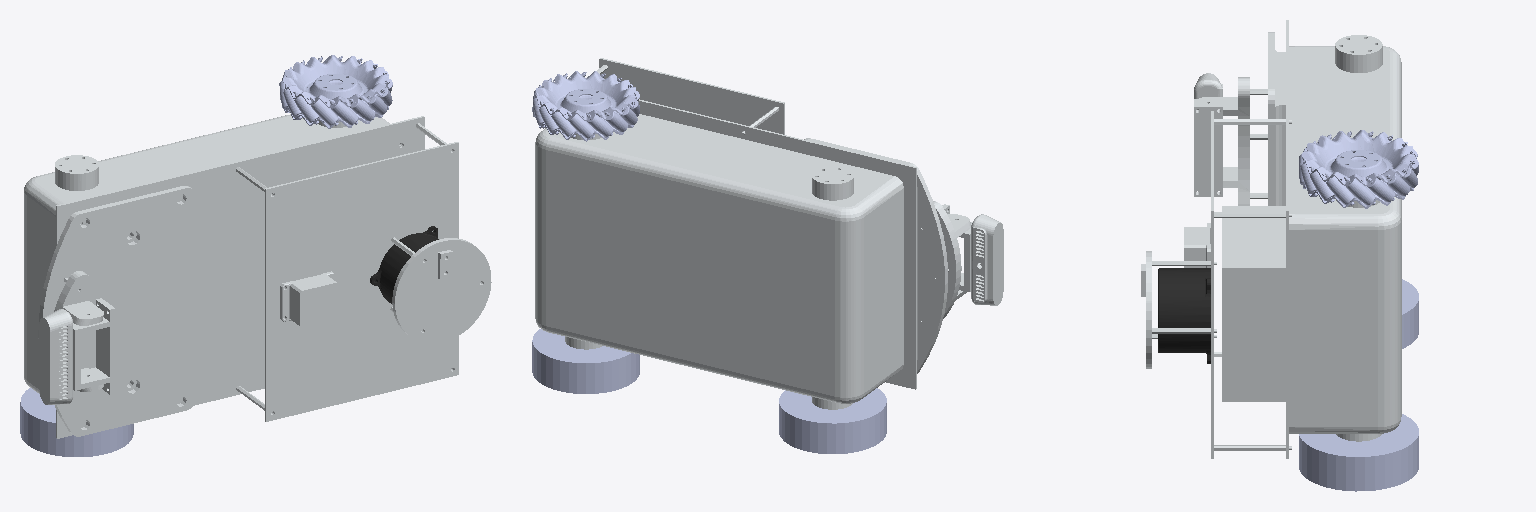
The robot description file, URDF, robot "agvcar":
<?xml version="1.0" encoding="utf-8"?>
<!-- This URDF was automatically created by SolidWorks to URDF Exporter! Originally created by [author] ([email redacted]) 
     Commit Version: 1.6.0-4-g7f85cfe  Build Version: 1.6.7995.38578
     For more information, please see http://wiki.ros.org/sw_urdf_exporter -->
<robot
  name="agvcar">
  <link
    name="base_link">
    <inertial>
      <origin
        xyz="0 0 0"
        rpy="0 0 0" />
      <mass
        value="13.095" />
      <inertia
        ixx="0.048597"
        ixy="1.1568E-09"
        ixz="1.5512E-06"
        iyy="0.097167"
        iyz="-1.5235E-11"
        izz="0.13211" />
    </inertial>
    <visual>
      <origin
        xyz="0 0 0"
        rpy="0 0 0" />
      <geometry>
        <mesh
          filename="package://agvcar/meshes2/base_link.STL" />
      </geometry>
      <material
        name="">
        <color
          rgba="0.89804 0.91765 0.92941 1" />
      </material>
    </visual>
    <collision>
      <origin
        xyz="0 0 0"
        rpy="0 0 0" />
      <geometry>
        <mesh
          filename="package://agvcar/meshes2/base_link.STL" />
      </geometry>
    </collision>
  </link>
  <link
    name="zql">
    <inertial>
      <origin
        xyz="-1.4012E-05 0.0093941 -3.3635E-05"
        rpy="0 0 0" />
      <mass
        value="0.065021" />
      <inertia
        ixx="1.3726E-05"
        ixy="-1.2301E-09"
        ixz="2.7342E-08"
        iyy="2.4442E-05"
        iyz="5.1251E-10"
        izz="1.378E-05" />
    </inertial>
    <visual>
      <origin
        xyz="0 0 0"
        rpy="0 0 0" />
      <geometry>
        <mesh
          filename="package://agvcar/meshes2/zql.STL" />
      </geometry>
      <material
        name="">
        <color
          rgba="0.79216 0.81961 0.93333 1" />
      </material>
    </visual>
    <collision>
      <origin
        xyz="0 0 0"
        rpy="0 0 0" />
      <geometry>
        <mesh
          filename="package://agvcar/meshes2/zql.STL" />
      </geometry>
    </collision>
  </link>
  <joint
    name="zq"
    type="continuous">
    <origin
      xyz="-0.023 -0.0358 -0.13754"
      rpy="1.5708 0 0" />
    <parent
      link="base_link" />
    <child
      link="zql" />
    <axis
      xyz="0 -1 0" />
  </joint>
  <link
    name="yql">
    <inertial>
      <origin
        xyz="2.3334E-06 -0.009395 -2.5007E-06"
        rpy="0 0 0" />
      <mass
        value="0.51783" />
      <inertia
        ixx="0.00010923"
        ixy="7.9114E-08"
        ixz="2.9698E-07"
        iyy="0.00019407"
        iyz="7.3815E-08"
        izz="0.00010918" />
    </inertial>
    <visual>
      <origin
        xyz="0 0 0"
        rpy="0 0 0" />
      <geometry>
        <mesh
          filename="package://agvcar/meshes2/yql.STL" />
      </geometry>
      <material
        name="">
        <color
          rgba="0.79216 0.81961 0.93333 1" />
      </material>
    </visual>
    <collision>
      <origin
        xyz="0 0 0"
        rpy="0 0 0" />
      <geometry>
        <mesh
          filename="package://agvcar/meshes2/yql.STL" />
      </geometry>
    </collision>
  </link>
  <joint
    name="yq"
    type="continuous">
    <origin
      xyz="-0.023 -0.0358 0.13751"
      rpy="1.5708 0 0" />
    <parent
      link="base_link" />
    <child
      link="yql" />
    <axis
      xyz="0 1 0" />
  </joint>
  <link
    name="zhl">
    <inertial>
      <origin
        xyz="0.26799 0.0093655 -3.3635E-05"
        rpy="0 0 0" />
      <mass
        value="0.065021" />
      <inertia
        ixx="1.3726E-05"
        ixy="-1.2301E-09"
        ixz="2.7342E-08"
        iyy="2.4442E-05"
        iyz="5.1251E-10"
        izz="1.378E-05" />
    </inertial>
    <visual>
      <origin
        xyz="0 0 0"
        rpy="0 0 0" />
      <geometry>
        <mesh
          filename="package://agvcar/meshes2/zhl.STL" />
      </geometry>
      <material
        name="">
        <color
          rgba="0.79216 0.81961 0.93333 1" />
      </material>
    </visual>
    <collision>
      <origin
        xyz="0 0 0"
        rpy="0 0 0" />
      <geometry>
        <mesh
          filename="package://agvcar/meshes2/zhl.STL" />
      </geometry>
    </collision>
  </link>
  <joint
    name="zh"
    type="continuous">
    <origin
      xyz="-0.291 -0.0358 -0.13751"
      rpy="1.5708 0 0" />
    <parent
      link="base_link" />
    <child
      link="zhl" />
    <axis
      xyz="0 -1 0" />
  </joint>
  <link
    name="yhl">
    <inertial>
      <origin
        xyz="0.268 -0.0094236 -2.5007E-06"
        rpy="0 0 0" />
      <mass
        value="0.51783" />
      <inertia
        ixx="0.00010923"
        ixy="7.9114E-08"
        ixz="2.9698E-07"
        iyy="0.00019407"
        iyz="7.3815E-08"
        izz="0.00010918" />
    </inertial>
    <visual>
      <origin
        xyz="0 0 0"
        rpy="0 0 0" />
      <geometry>
        <mesh
          filename="package://agvcar/meshes2/yhl.STL" />
      </geometry>
      <material
        name="">
        <color
          rgba="0.79216 0.81961 0.93333 1" />
      </material>
    </visual>
    <collision>
      <origin
        xyz="0 0 0"
        rpy="0 0 0" />
      <geometry>
        <mesh
          filename="package://agvcar/meshes2/yhl.STL" />
      </geometry>
    </collision>
  </link>
  <joint
    name="yh"
    type="continuous">
    <origin
      xyz="-0.291 -0.0358 0.13754"
      rpy="1.5708 0 0" />
    <parent
      link="base_link" />
    <child
      link="yhl" />
    <axis
      xyz="0 1 0" />
  </joint>
  <link
    name="ladar">
    <inertial>
      <origin
        xyz="1.0044E-11 -5.0942E-12 -0.0002267"
        rpy="0 0 0" />
      <mass
        value="0.1808" />
      <inertia
        ixx="8.8611E-05"
        ixy="1.499E-14"
        ixz="3.755E-14"
        iyy="8.8611E-05"
        iyz="-1.3526E-14"
        izz="0.00011661" />
    </inertial>
    <visual>
      <origin
        xyz="0 0 0"
        rpy="0 0 0" />
      <geometry>
        <mesh
          filename="package://agvcar/meshes2/ladar.STL" />
      </geometry>
      <material
        name="">
        <color
          rgba="0.22353 0.22353 0.22353 1" />
      </material>
    </visual>
    <collision>
      <origin
        xyz="0 0 0"
        rpy="0 0 0" />
      <geometry>
        <mesh
          filename="package://agvcar/meshes2/ladar.STL" />
      </geometry>
    </collision>
  </link>
  <joint
    name="ladar"
    type="fixed">
    <origin
      xyz="-0.01553 -0.18247 0"
      rpy="1.5708 0 0" />
    <parent
      link="base_link" />
    <child
      link="ladar" />
    <axis
      xyz="0 0 0" />
  </joint>
  <link
    name="camera">
    <inertial>
      <origin
        xyz="0.011444 0.001705 -0.00013611"
        rpy="0 0 0" />
      <mass
        value="0.10791" />
      <inertia
        ixx="7.1255E-05"
        ixy="-1.7848E-08"
        ixz="-4.9298E-08"
        iyy="7.71E-06"
        iyz="-2.4846E-10"
        izz="7.0257E-05" />
    </inertial>
    <visual>
      <origin
        xyz="0 0 0"
        rpy="0 0 0" />
      <geometry>
        <mesh
          filename="package://agvcar/meshes2/camera.STL" />
      </geometry>
      <material
        name="">
        <color
          rgba="0.89804 0.91765 0.92941 1" />
      </material>
    </visual>
    <collision>
      <origin
        xyz="0 0 0"
        rpy="0 0 0" />
      <geometry>
        <mesh
          filename="package://agvcar/meshes2/camera.STL" />
      </geometry>
    </collision>
  </link>
  <joint
    name="cameraa"
    type="fixed">
    <origin
      xyz="-0.39662 -0.1625 -0.0017162"
      rpy="1.5708 0 0" />
    <parent
      link="base_link" />
    <child
      link="camera" />
    <axis
      xyz="0 0 0" />
  </joint>
</robot>

--- What the picture shows (computed from the rendered views, not written in the file) ---
3 views of the same robot in one strip: view 1: azimuth 30°, elevation 25°; view 2: azimuth 150°, elevation 25°; view 3: azimuth 270°, elevation 25° (orthographic).
Robot: agvcar — 7 links, 6 joints (4 continuous, 2 fixed); root link base_link; default pose: all joints at 0.
Visible links, largest first — view 1: base_link, yhl, zhl, camera, ladar, yql; view 2: base_link, zhl, yhl, zql, camera, yql; view 3: base_link, zql, yhl, ladar, yql, zhl, camera.
Link boxes in pixels (left/top/right/bottom): base_link: left=24, top=114, right=491, bottom=438; yhl: left=279, top=55, right=392, bottom=128; zhl: left=20, top=388, right=133, bottom=456; camera: left=39, top=309, right=72, bottom=404; ladar: left=370, top=226, right=438, bottom=303; yql: left=280, top=58, right=392, bottom=128; base_link: left=535, top=58, right=972, bottom=409; zhl: left=779, top=388, right=886, bottom=453; yhl: left=532, top=71, right=639, bottom=140; zql: left=532, top=329, right=639, bottom=393; camera: left=971, top=214, right=1003, bottom=305; yql: left=532, top=74, right=639, bottom=141; base_link: left=1141, top=20, right=1401, bottom=458; zql: left=1299, top=414, right=1418, bottom=491; yhl: left=1299, top=130, right=1418, bottom=208; ladar: left=1158, top=268, right=1210, bottom=363; yql: left=1300, top=133, right=1418, bottom=208; zhl: left=1402, top=279, right=1418, bottom=348; camera: left=1194, top=73, right=1222, bottom=98.
Size in the robot's own frame: 0.432 by 0.2345 by 0.2907 metres.
Meshes: 7 distinct files referenced, 7 mesh visuals loaded (7 binary STL).
